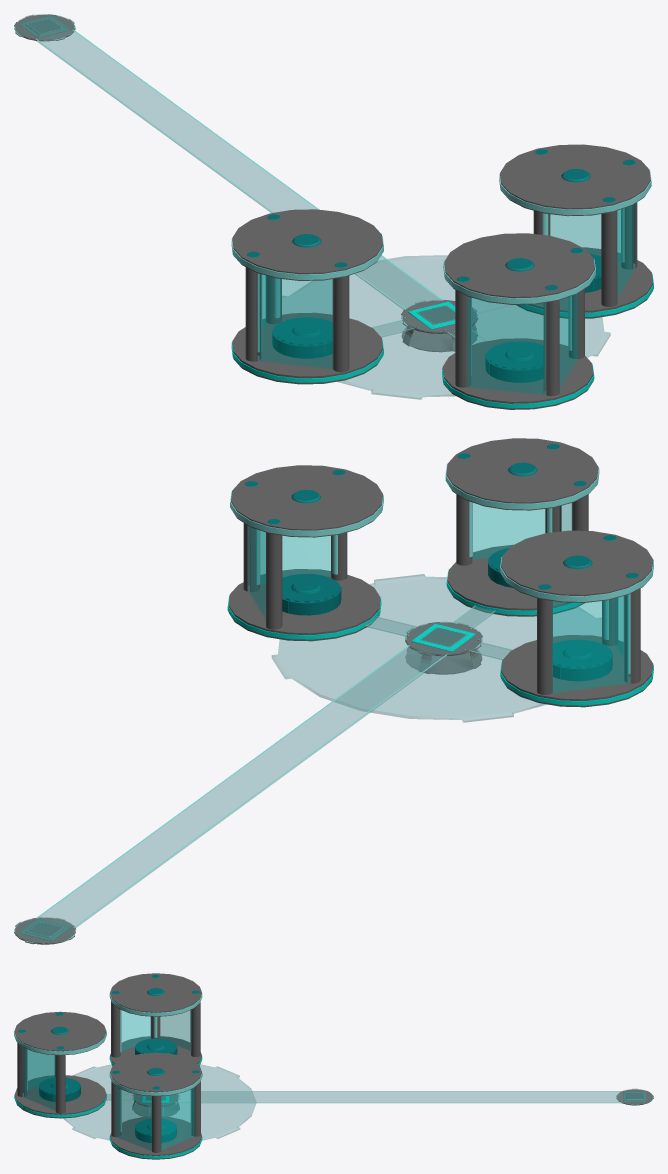
File: MAINMENU (7).fbx
3 renders of one model, top to bottom at view 1: azimuth 30°, elevation 25°; view 2: azimuth 150°, elevation 25°; view 3: azimuth 270°, elevation 25°, orthographic. The views are drawn at different scales.
Visible parts, largest first — view 1: pCylinder81, pCube10, pCylinder68, pCylinder34, pCylinder43, pCylinder60, pCylinder77, pCylinder11, pCylinder9, pCylinder51, pCylinder7, pCylinder40 (+19 smaller); view 2: pCylinder81, pCube10, pCylinder34, pCylinder77, pCylinder60, pCylinder43, pCylinder7, pCylinder9, pCylinder51, pCylinder68, pCylinder11, pCylinder57 (+16 smaller); view 3: pCylinder81, pCube10, pCylinder51, pCylinder77, pCylinder43, pCylinder60, pCylinder68, pCylinder11, pCylinder34, pCylinder7, pCylinder9, pCylinder74 (+16 smaller).
Part boxes in pixels (x1,y1,x2,y2): pCylinder81: (282, 255, 610, 399); pCube10: (36, 29, 442, 309); pCylinder68: (467, 293, 578, 396); pCylinder34: (245, 267, 333, 369); pCylinder43: (232, 209, 383, 280); pCylinder60: (500, 144, 650, 216); pCylinder77: (444, 233, 594, 304); pCylinder11: (442, 338, 593, 409); pCylinder9: (232, 312, 383, 384); pCylinder51: (550, 202, 637, 299); pCylinder7: (516, 247, 653, 318); pCylinder40: (333, 276, 349, 372); pCylinder81: (271, 574, 601, 722); pCube10: (36, 645, 447, 927); pCylinder34: (552, 588, 640, 692); pCylinder77: (446, 438, 598, 510); pCylinder60: (231, 465, 382, 537); pCylinder43: (501, 530, 653, 602); pCylinder7: (228, 569, 380, 641); pCylinder9: (501, 635, 653, 707); pCylinder51: (243, 523, 330, 619); pCylinder68: (472, 503, 571, 559); pCylinder11: (447, 544, 584, 616); pCylinder57: (266, 532, 282, 629); pCylinder81: (63, 1064, 255, 1140); pCube10: (175, 1091, 622, 1103); pCylinder51: (116, 1086, 194, 1152); pCylinder77: (14, 1011, 106, 1055); pCylinder43: (110, 973, 201, 1016); pCylinder60: (110, 1052, 201, 1096); pCylinder68: (17, 1043, 55, 1110); pCylinder11: (14, 1075, 106, 1118); pCylinder34: (122, 1010, 189, 1051); pCylinder7: (110, 1116, 201, 1159); pCylinder9: (110, 1036, 201, 1065); pCylinder74: (55, 1055, 65, 1114).
Size of the model in its own units: 98.83 by 30.68 by 224.
